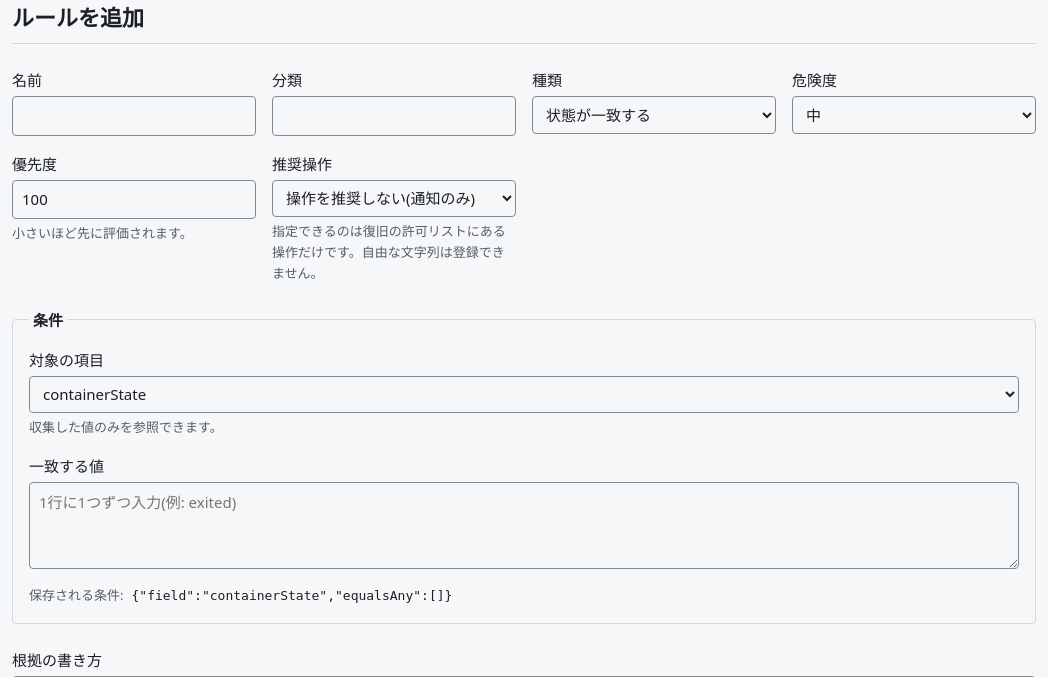
Test: RuleEditView › 必須項目が空なら保存できない
Type "新しいルール" into the field with id "rule-name" at (134, 116), box left=12, top=96, right=256, bottom=136
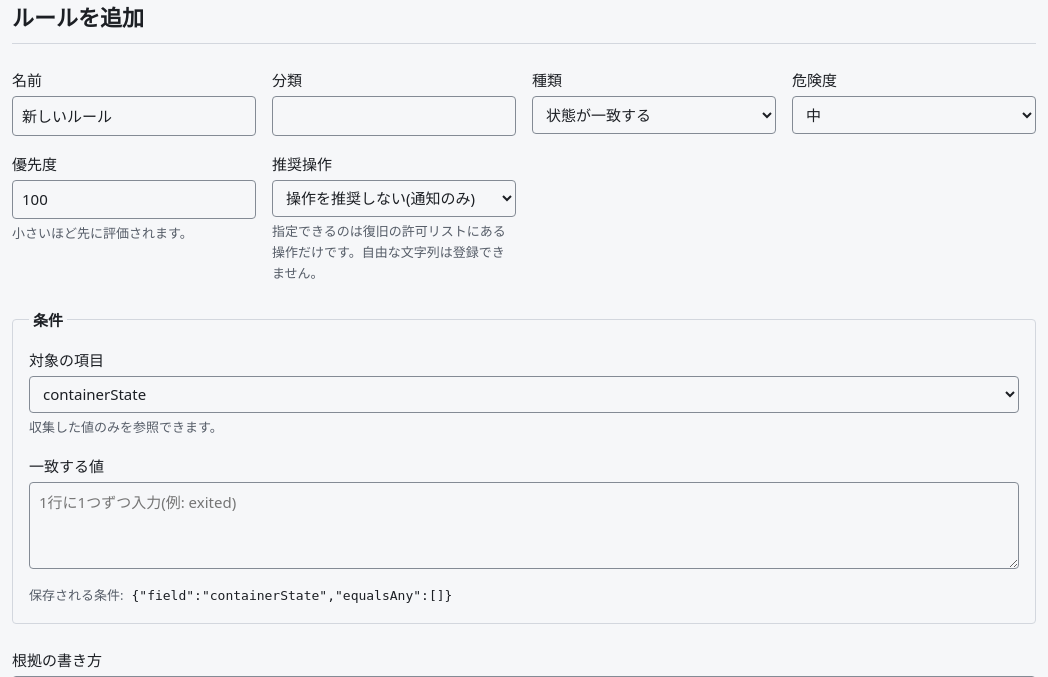
Type "DiskPressure" into the field with id "rule-classification" at (394, 116), box left=272, top=96, right=516, bottom=136
(page scrolled)
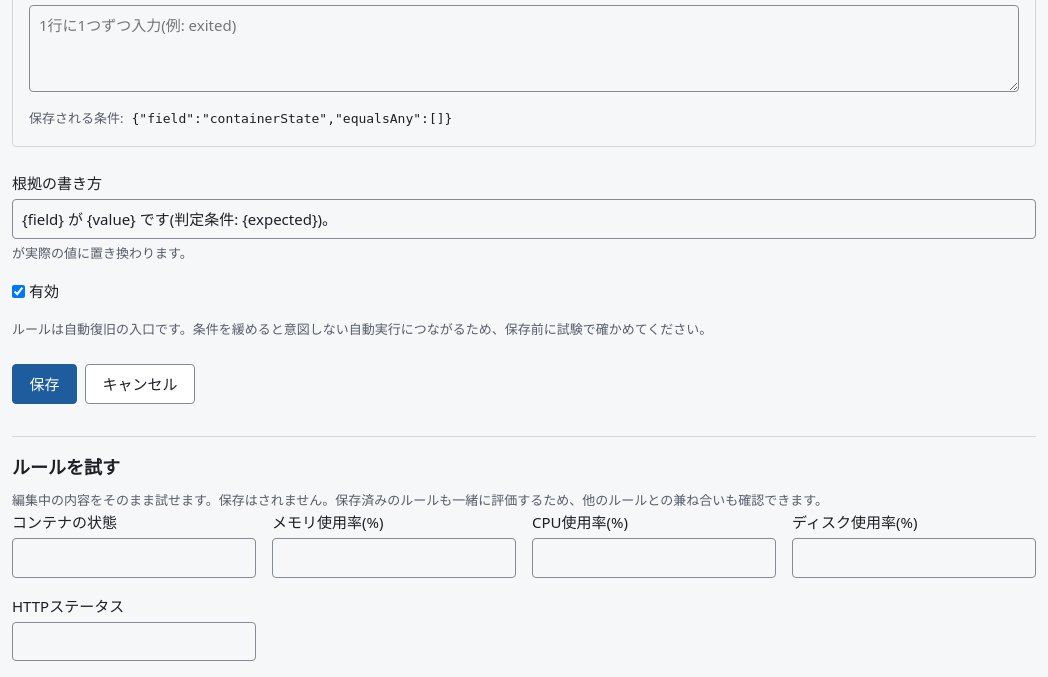
expect the button "保存" is enabled: met, box left=12, top=364, right=77, bottom=404
